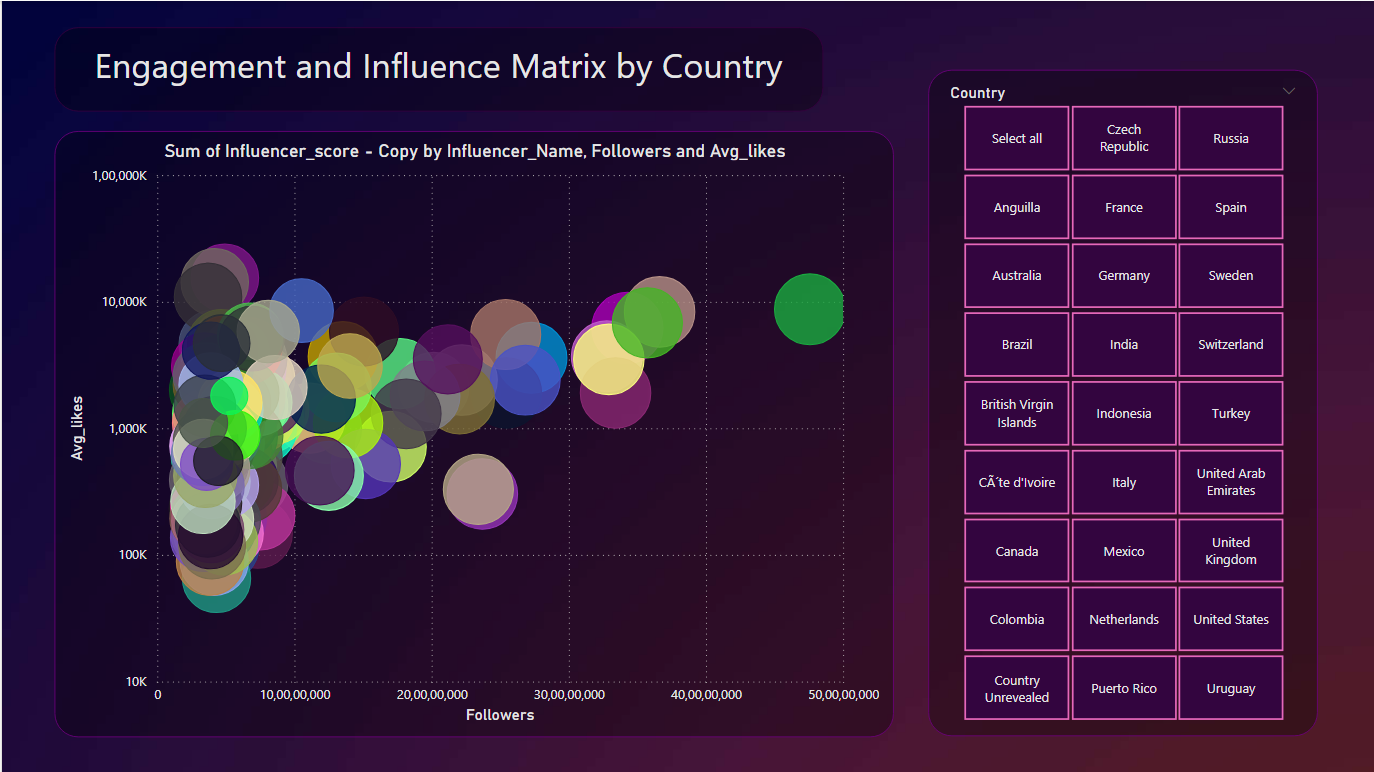

Layout of this report page (visuals, bound fields, positions):
{"tool":"powerbi","page":{"name":"Dashboard Pg2","canvas":[1280,720],"ordinal":1},"visuals":[{"type":"scatterChart","fields":{"X":["top_insta_influencers_data.Followers"],"Y":["top_insta_influencers_data.Avg_likes"],"Series":["top_insta_influencers_data.Influencer_Name"],"Size":["Sum(top_insta_influencers_data.Influencer_score - Copy)"]},"box":[49.4,120.8,780.8,564],"z":0},{"type":"textbox","box":[49.4,24.7,714.9,78.2],"z":1000},{"type":"slicer","fields":{"Values":["top_insta_influencers_data.Country"]},"box":[861.8,64.5,362.3,620.2],"z":2000}]}

Visuals, with their boxes in screenshot pixels (x1, y1, x2, y2), scaled from the page's 1280x720 canvas onto the 1374x772 screenshot:
scatterChart - top_insta_influencers_data.Followers x top_insta_influencers_data.Avg_likes: <box>53,130,891,734</box>
textbox: <box>53,26,820,110</box>
slicer - top_insta_influencers_data.Country: <box>925,69,1314,734</box>
